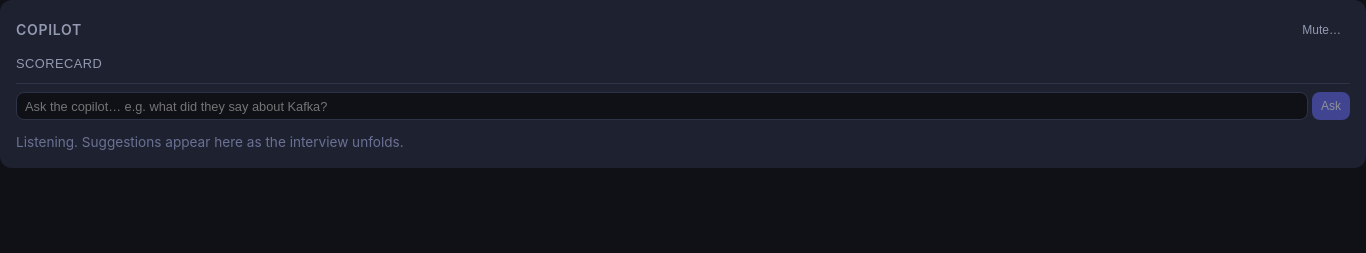
ask the copilot › sends the question, shows it pending, and resolves the reply with citations
Type " What did they say about Kafka? " into the field labelled "Ask the copilot" at coordinates (662, 106), box x1=16 y1=92 x2=1308 y2=120
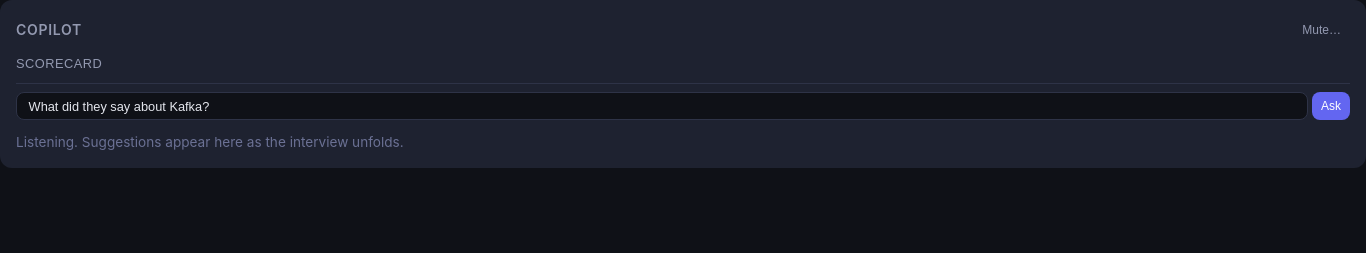
Click the button "Ask" at coordinates (1331, 106), box x1=1312 y1=92 x2=1350 y2=120
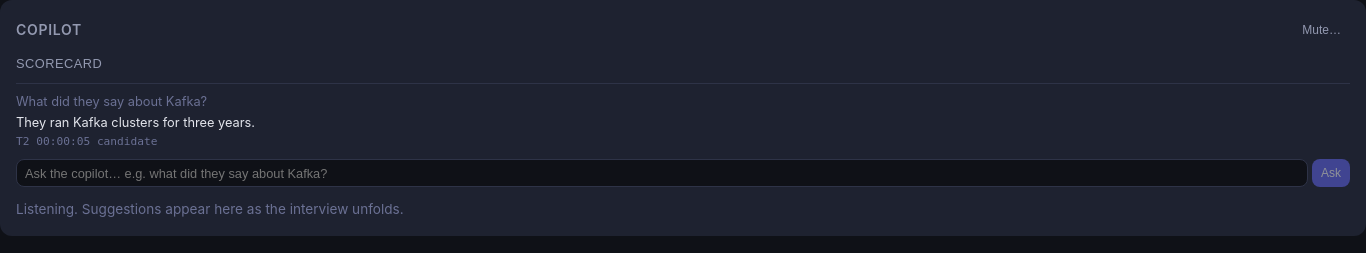
expect the text "What did they say about Kafka?" is shown: met, box x1=16 y1=94 x2=207 y2=109
expect the text "They ran Kafka clusters for three years." is shown: met, box x1=16 y1=115 x2=255 y2=130
expect the text titled "I ran Kafka clusters" reads "T2 00:00:05 candidate": met, box x1=16 y1=134 x2=158 y2=151
